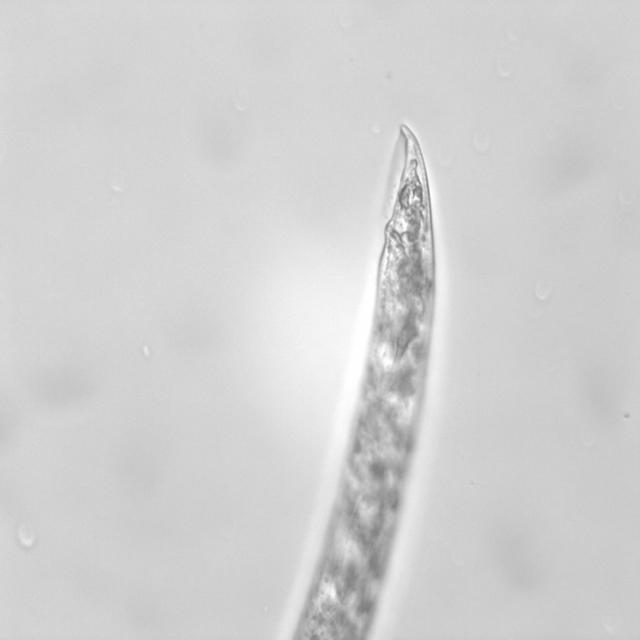Pratylenchus: (321, 110, 445, 374)
